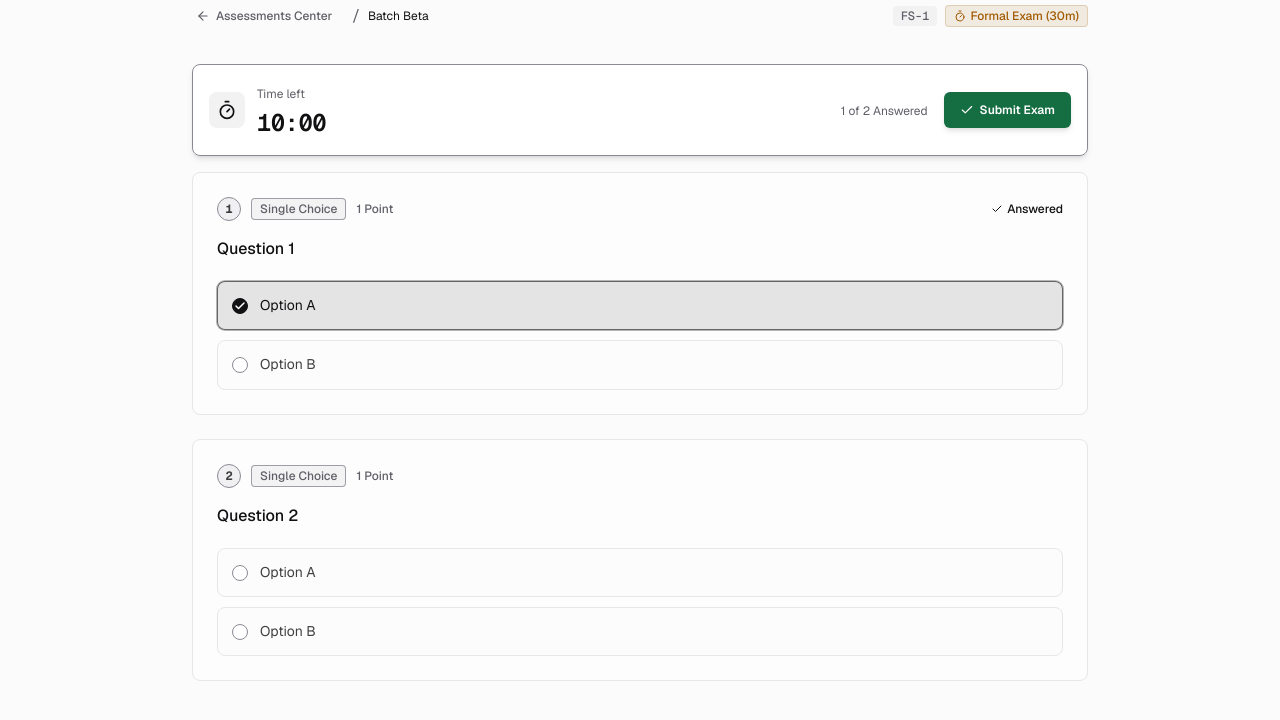
Scenario: Formal assessment: final-submission confirmation › while submitting, the dialog is locked; a failure keeps it open and shows the error inside it
Click the button "Submit Exam" at (1007, 110), box [944,92,1071,128]
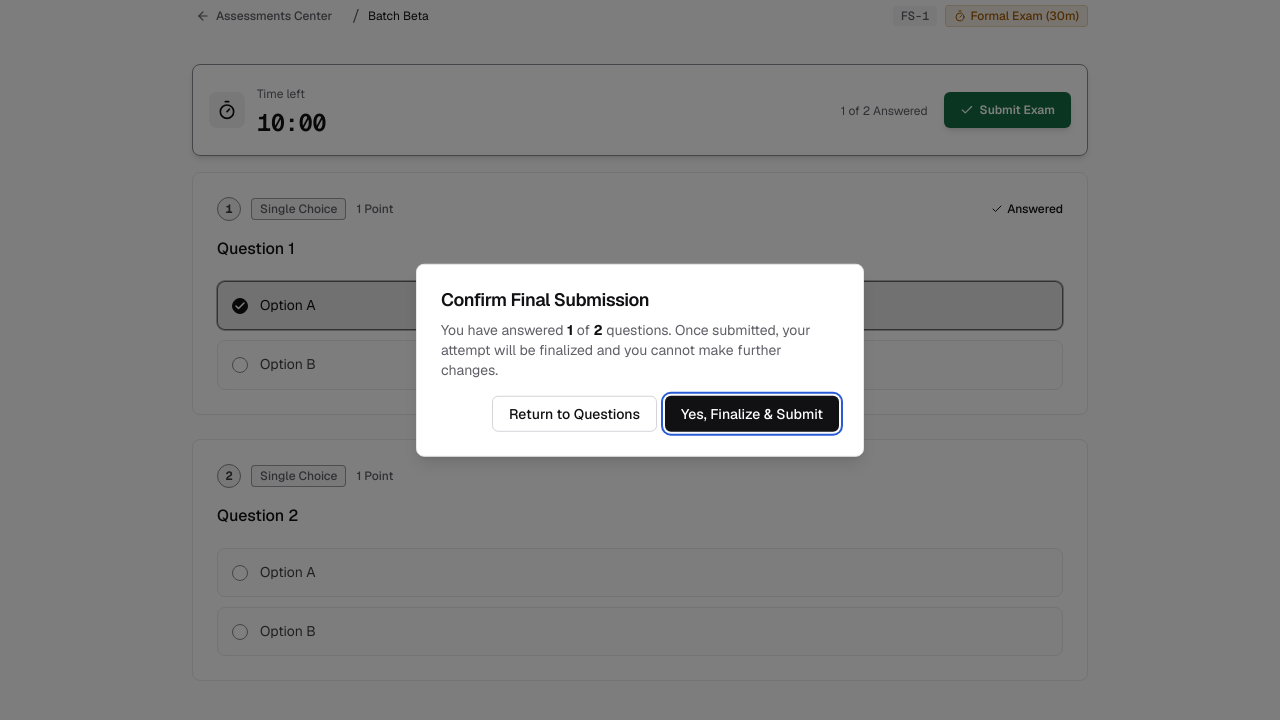
Click the button "Yes, Finalize & Submit" at (752, 413), box [665,395,839,431]
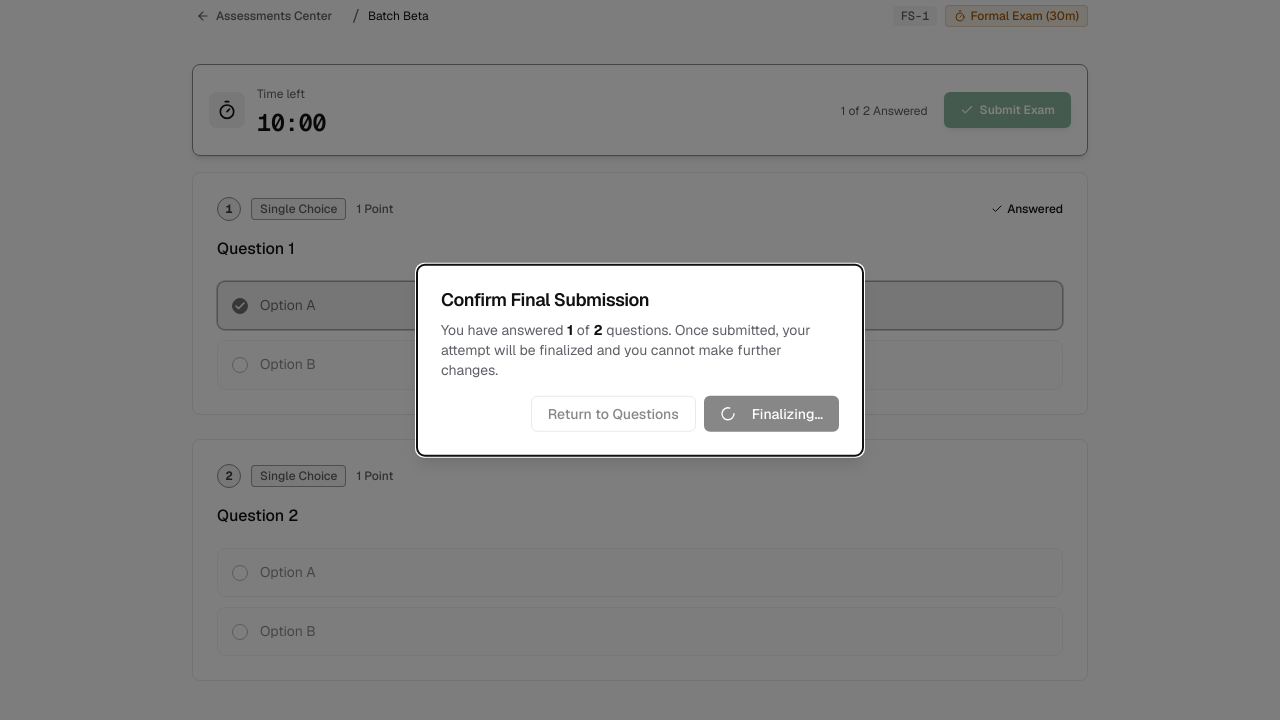
expect the button "Return to Questions" is disabled: met, box [531,395,696,431]
expect the button "Finalizing…" is disabled: met, box [704,395,839,431]
Press Escape
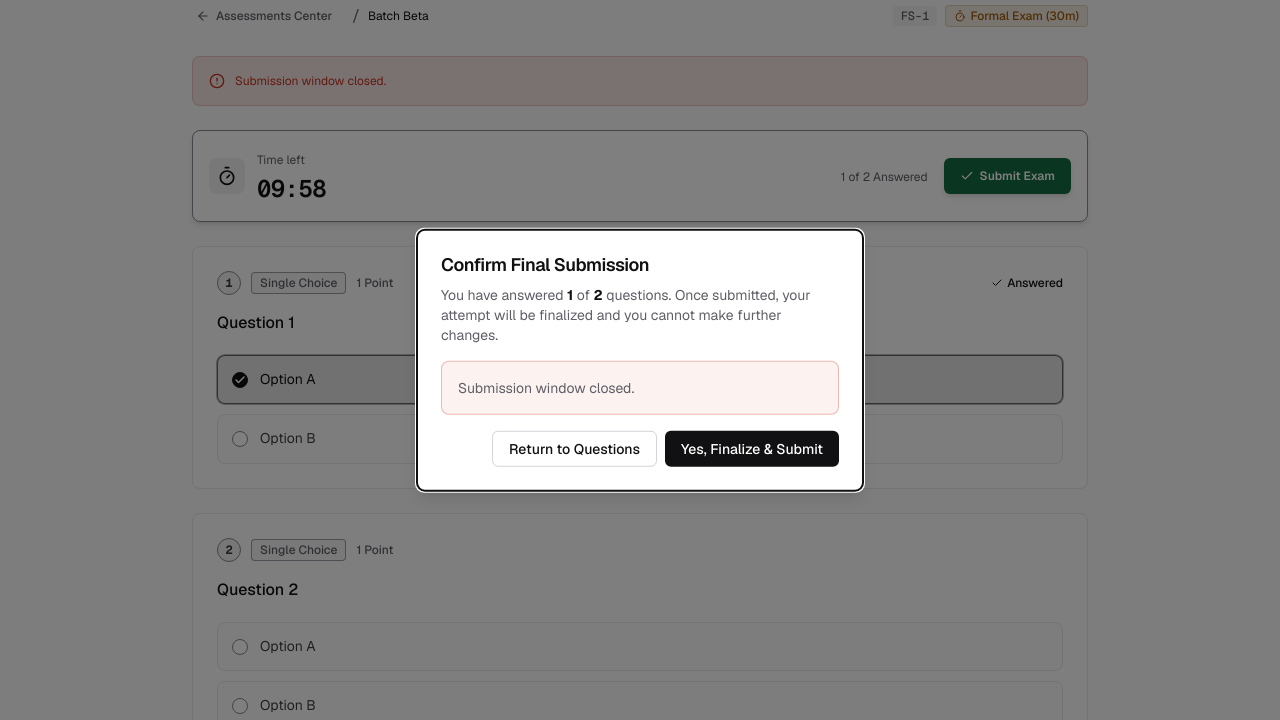
expect the dialog is shown: met, box [416,229,864,491]
expect the text "Submission window closed." is shown: met, box [458,378,634,396]
expect the message "Submission window closed." is shown: met, box [441,360,839,414]
